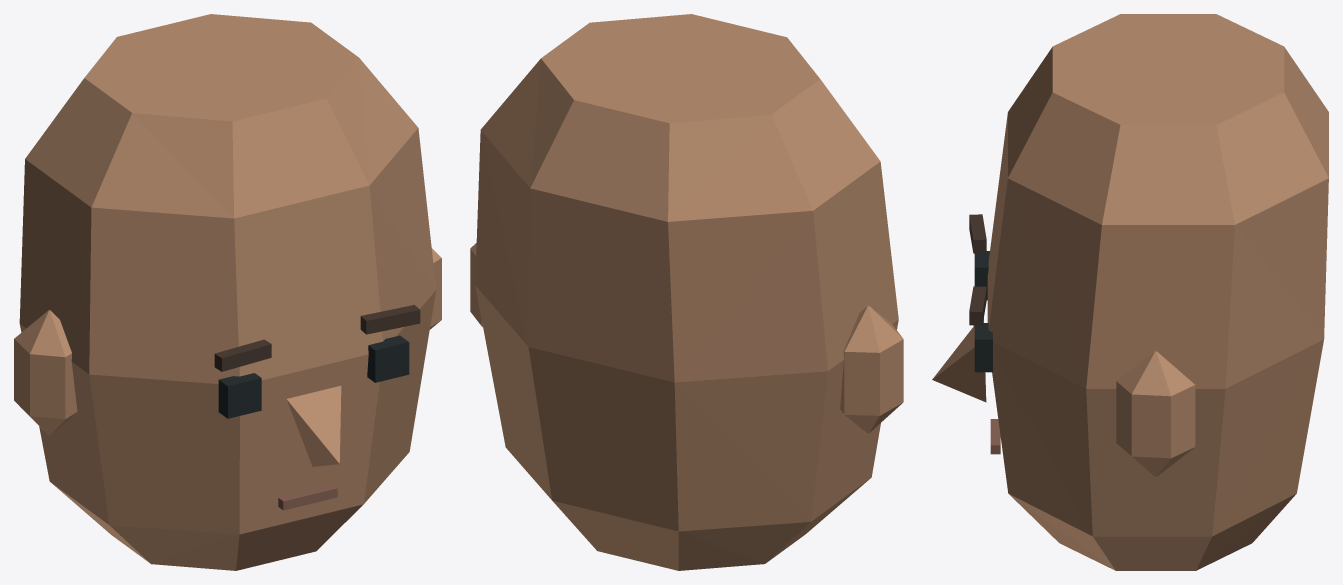
Rendered from NPC_Head_00_Male.glb.
3 renders of one model, left to right at view 1: azimuth 30°, elevation 25°; view 2: azimuth 150°, elevation 25°; view 3: azimuth 270°, elevation 25°, orthographic.
Visible parts, largest first — view 1: NPC_Head_00_Male; view 2: NPC_Head_00_Male; view 3: NPC_Head_00_Male.
Boxes of the visible parts, x1,y1,x2,y2 form: NPC_Head_00_Male: (14,14,441,570); NPC_Head_00_Male: (470,14,903,570); NPC_Head_00_Male: (932,14,1328,570).
Size of the model in its own units: 0.5692 by 0.6 by 0.4752.
